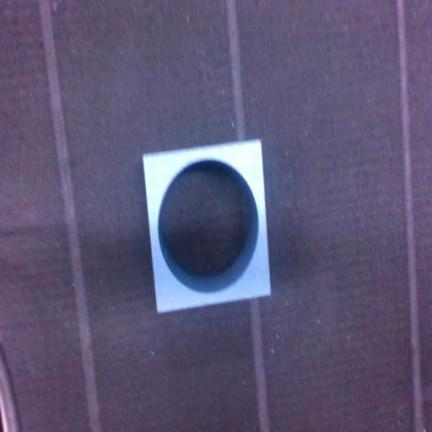hole: (144, 141, 270, 312)
